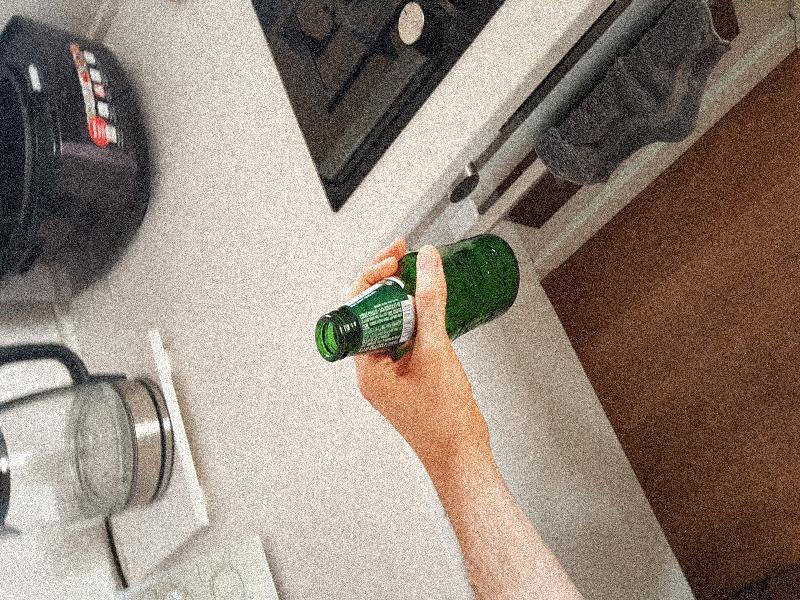Beer: (316, 233, 521, 362)
